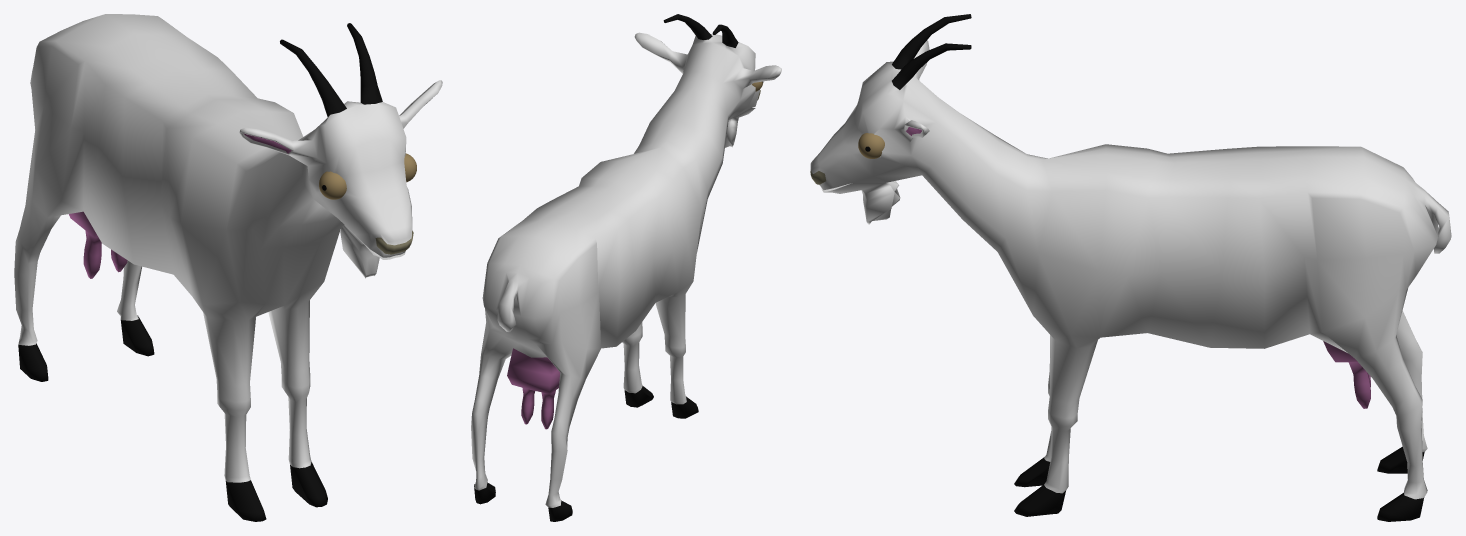
Rendered from Low Poly Goat.fbx.
3 views of the same model, side by side, from view 1: azimuth 30°, elevation 25°; view 2: azimuth 150°, elevation 25°; view 3: azimuth 270°, elevation 25° (orthographic). The views are drawn at different scales.
Parts seen in each view (by area): view 1: Cube, Sphere; view 2: Cube; view 3: Cube.
Part boxes in pixels (x1,y1,x2,y2): Cube: (14, 14, 442, 521); Sphere: (319, 153, 416, 199); Cube: (471, 14, 781, 521); Cube: (810, 14, 1451, 521).
Bounding box in the file's own units: 80.99 × 191 × 238.
